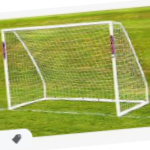goals: (1, 20, 150, 117)
